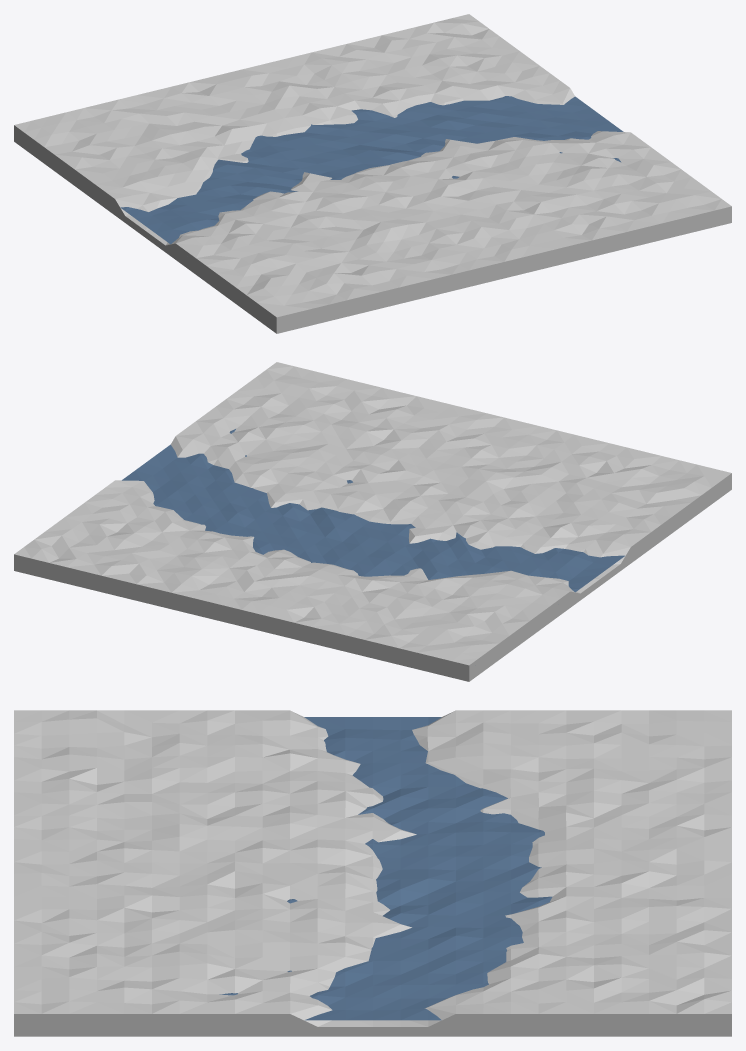
File: WaterStraight2Tile.fbx
The picture shows the model from 3 angles, top to bottom: view 1: azimuth 30°, elevation 25°; view 2: azimuth 150°, elevation 25°; view 3: azimuth 270°, elevation 25°; orthographic projection. The views are drawn at different scales.
Parts seen in each view (by area): view 1: WaterStraight2Tile.001; view 2: WaterStraight2Tile.001; view 3: WaterStraight2Tile.001.
Boxes of the visible parts, x1,y1,x2,y2 form: WaterStraight2Tile.001: [14, 14, 731, 333]; WaterStraight2Tile.001: [14, 362, 731, 681]; WaterStraight2Tile.001: [14, 710, 731, 1036].
Bounding box in the file's own units: 1000 × 40.71 × 1000.
